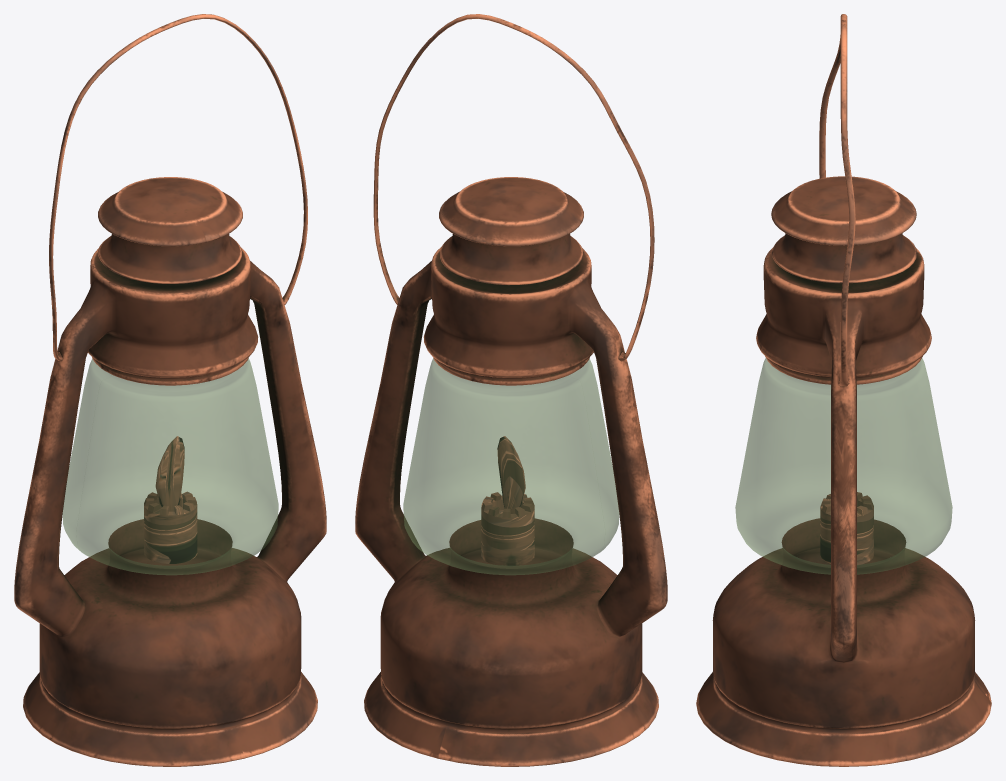
The model's file is obj_old_kerosene_oil_lamp_free_f_ed5830.glb.
3 renders of one model, left to right at view 1: azimuth 30°, elevation 25°; view 2: azimuth 150°, elevation 25°; view 3: azimuth 270°, elevation 25°, orthographic.
Visible parts, largest first — view 1: obj_old_kerosene_oil_lamp_free_f_ed5830; view 2: obj_old_kerosene_oil_lamp_free_f_ed5830; view 3: obj_old_kerosene_oil_lamp_free_f_ed5830.
Part boxes in pixels (x1,y1,x2,y2): obj_old_kerosene_oil_lamp_free_f_ed5830: (14, 14, 326, 766); obj_old_kerosene_oil_lamp_free_f_ed5830: (355, 14, 667, 766); obj_old_kerosene_oil_lamp_free_f_ed5830: (696, 14, 991, 766).
Size of the model in its own units: 0.166 by 0.35 by 0.1371.
1 material, 1 textured.
